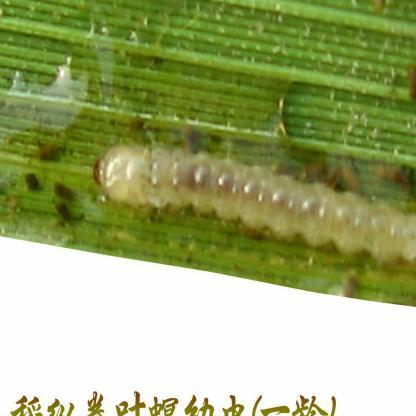leaf-folder: (89, 114, 416, 284)
